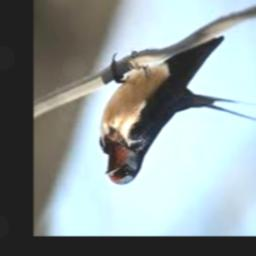Swallow: (99, 35, 256, 185)
